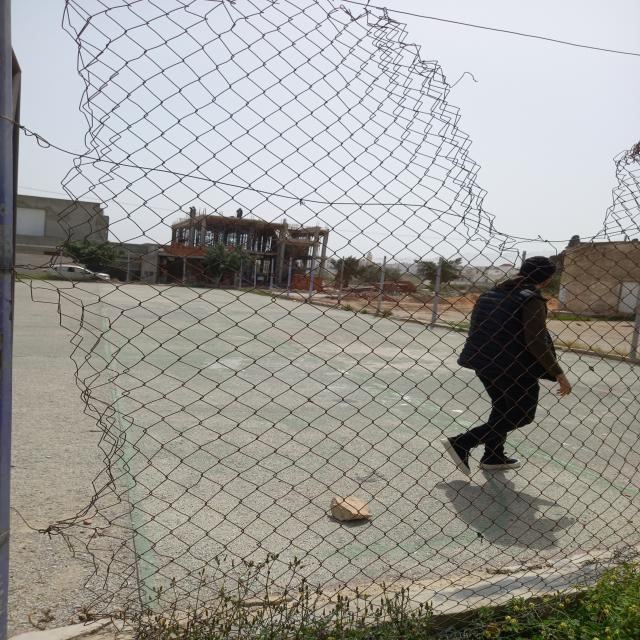fence line: (432, 24, 616, 234), (16, 299, 131, 612), (14, 21, 104, 260)
